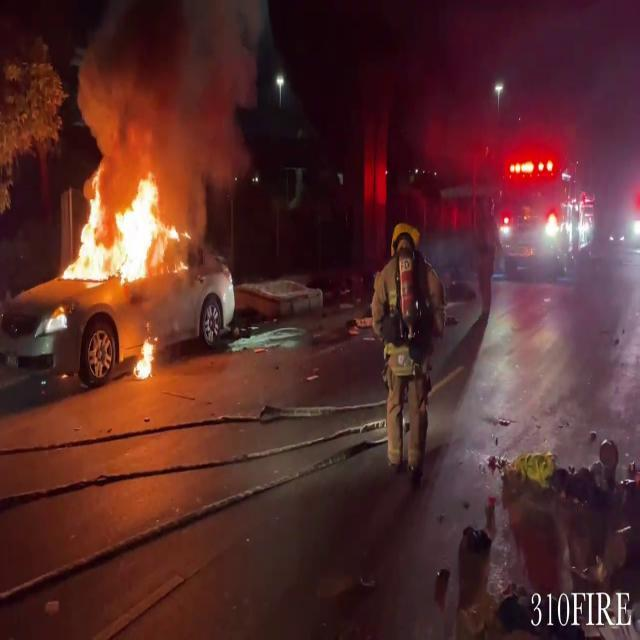Fire: (58, 164, 183, 288), (132, 333, 159, 382)
Smoke: (75, 1, 272, 182)
